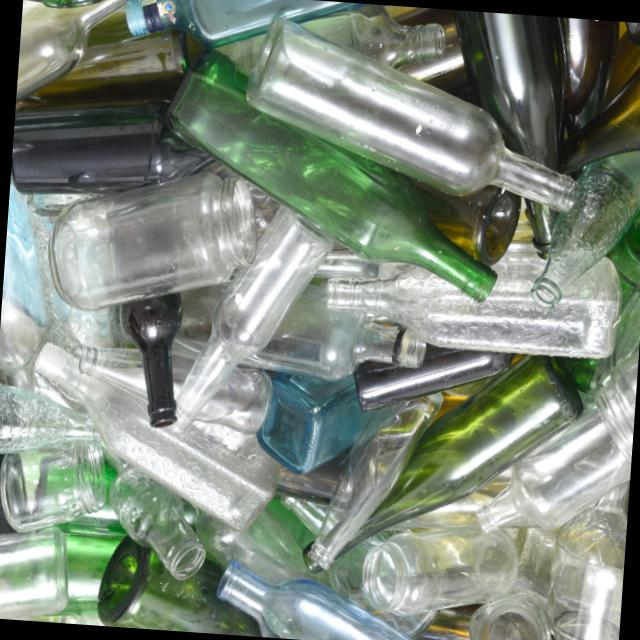glass: (0, 0, 640, 640), (133, 27, 499, 311), (218, 0, 592, 253), (278, 319, 589, 576), (12, 313, 322, 563), (131, 195, 354, 473), (300, 233, 635, 371), (28, 153, 283, 324), (421, 359, 632, 551)
